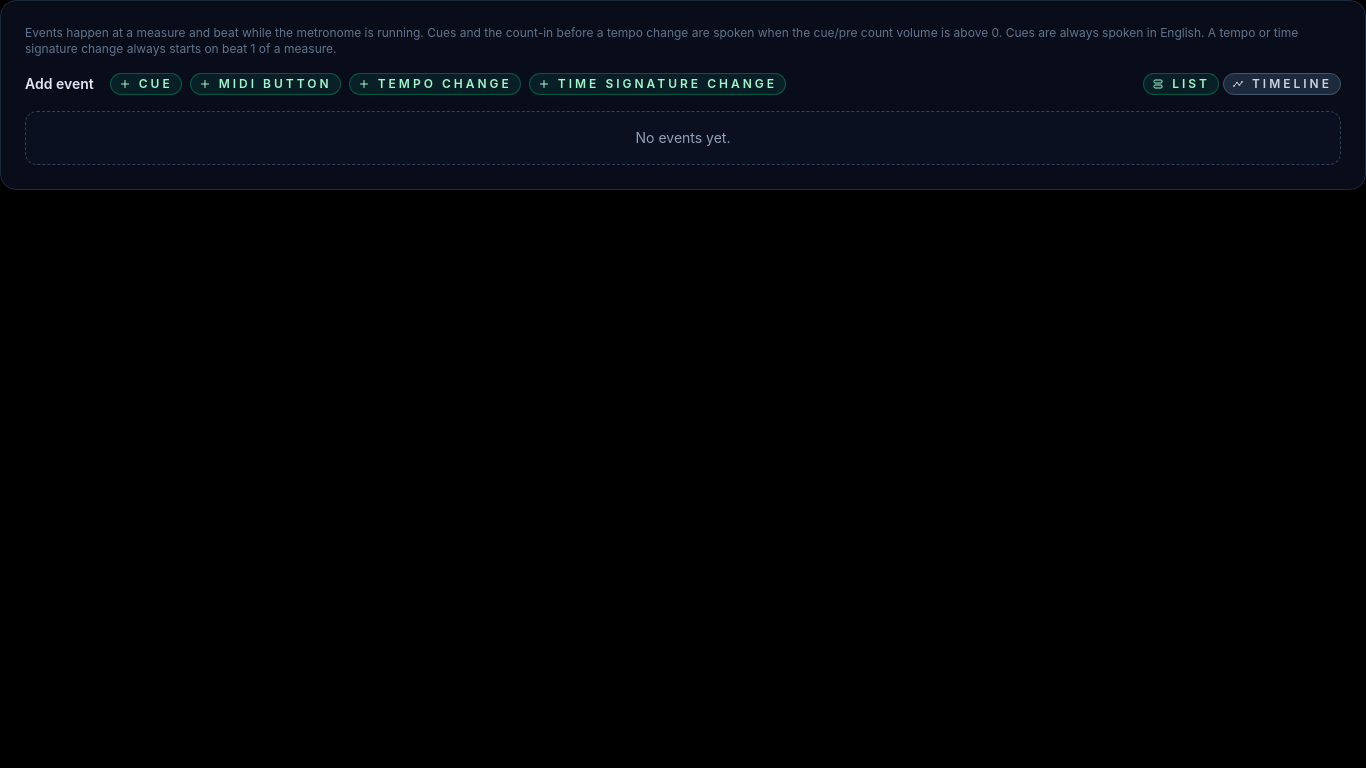
Test: EventsTab › timeline view › closes the dialog with the close button and with Escape
Click the button "Timeline".
click(1282, 84)  # box x1=1223 y1=73 x2=1341 y2=95
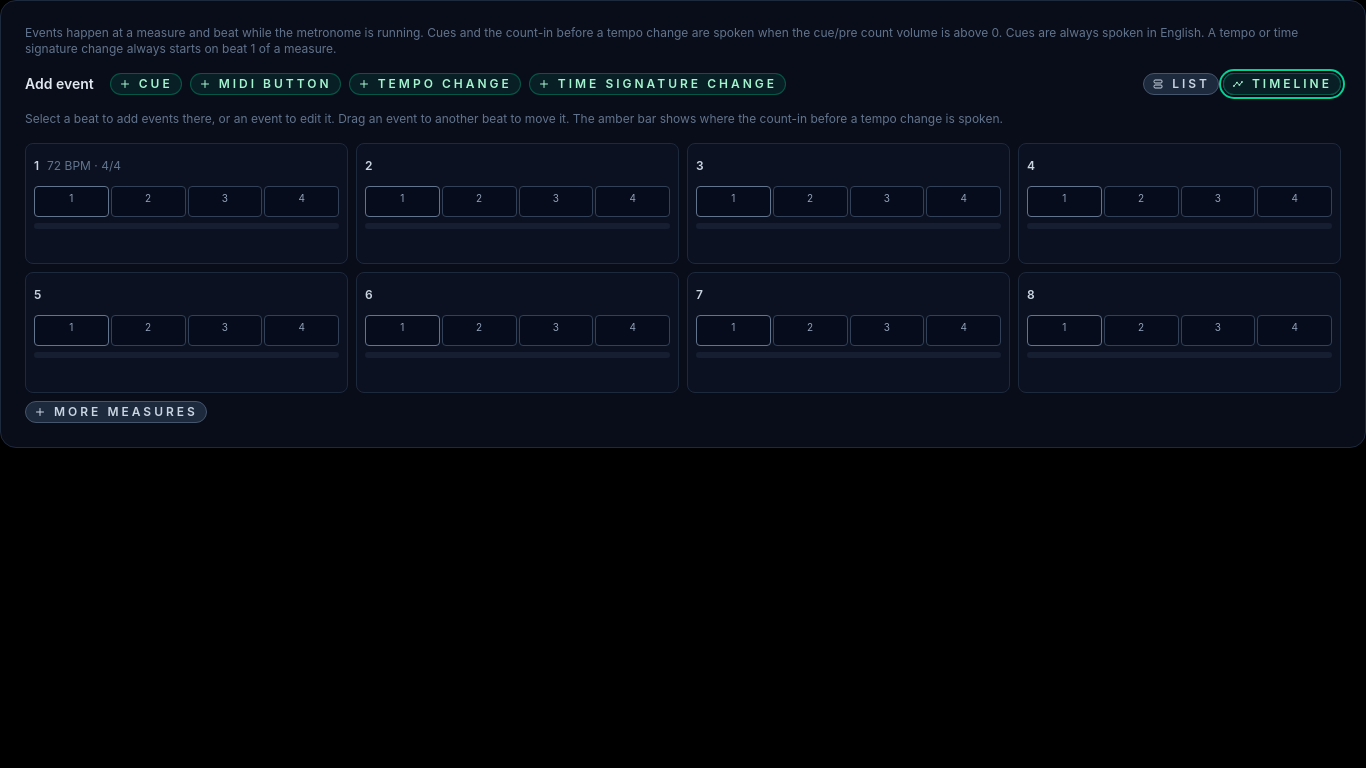
Click the button named "Select measure 2, beat 3".
click(556, 202)  # box x1=518 y1=186 x2=593 y2=217
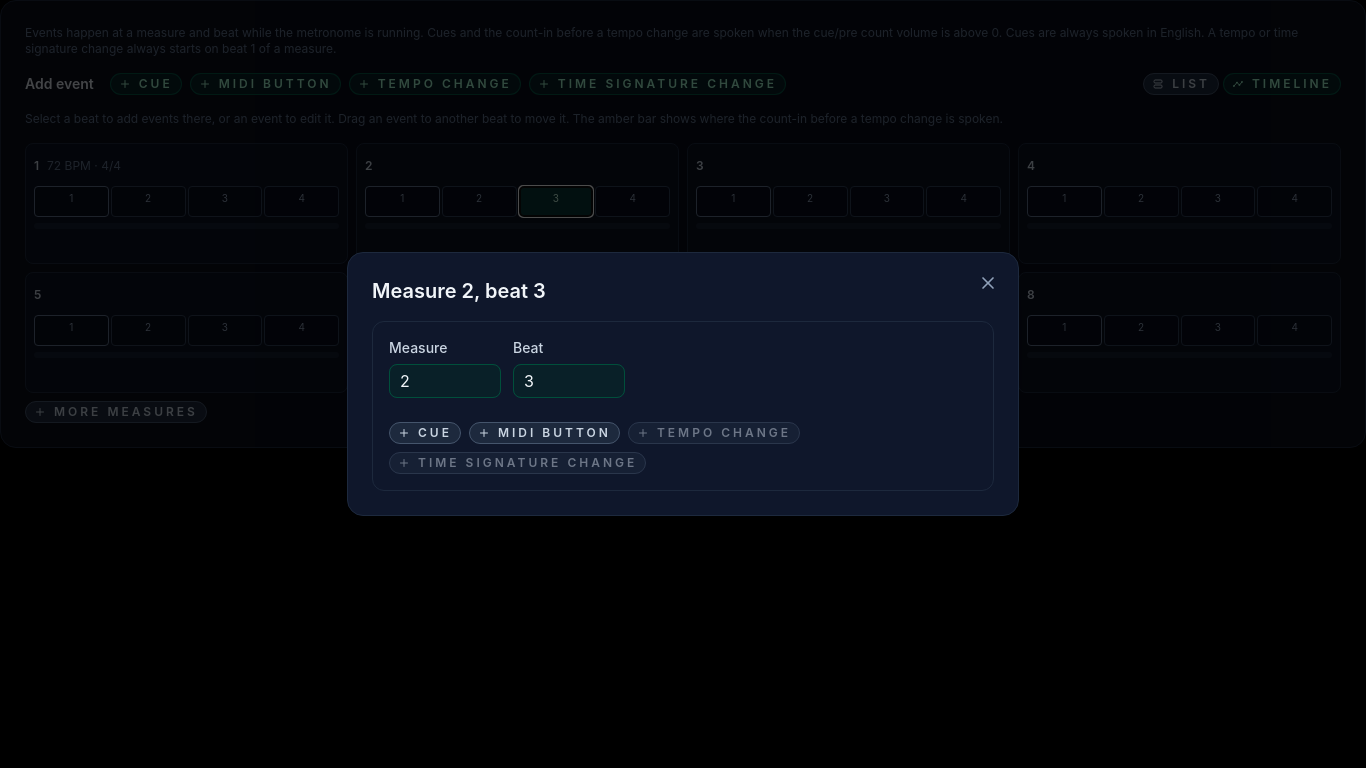
Click the button named "Close dialog".
click(988, 283)  # box x1=974 y1=269 x2=1002 y2=297
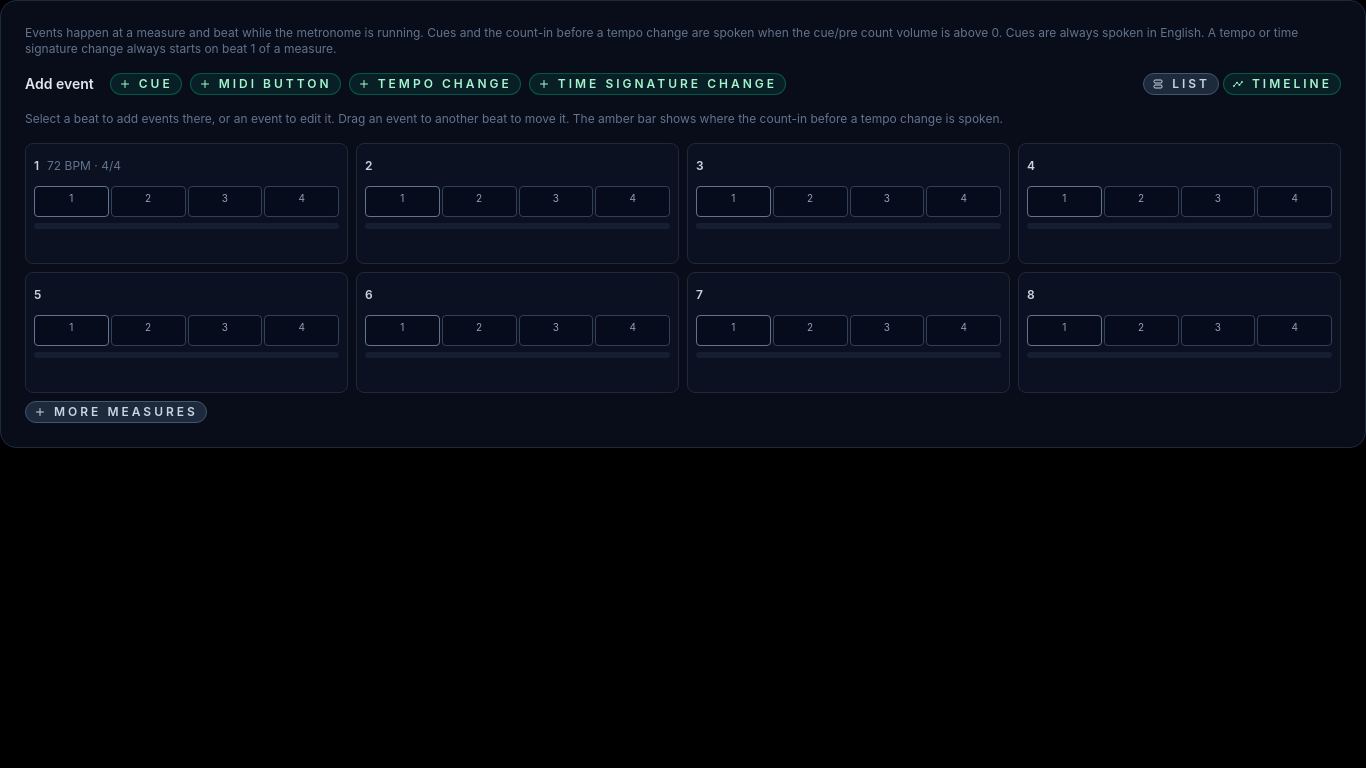
Now the dialog is gone
Click the button named "Select measure 2, beat 3".
click(556, 202)  # box x1=518 y1=186 x2=593 y2=217
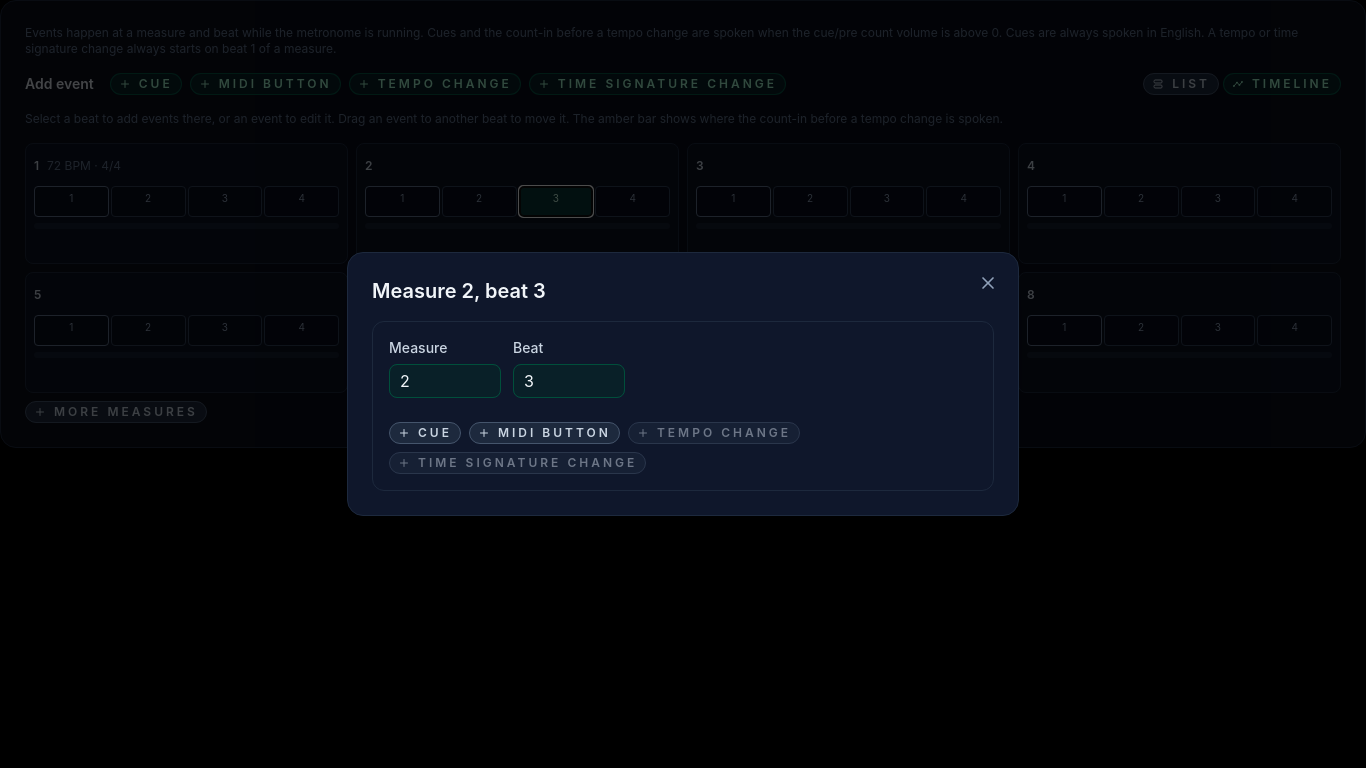
Press Escape
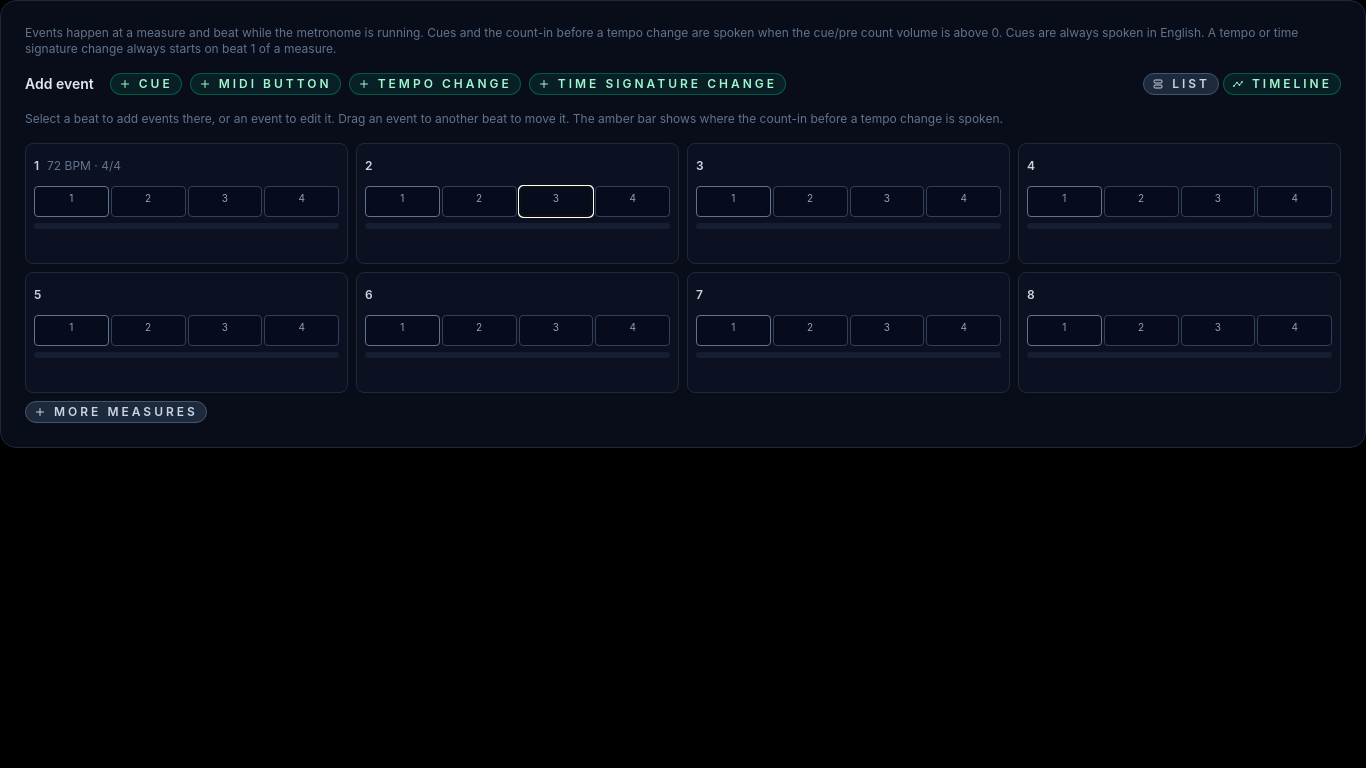
Now the dialog is gone
